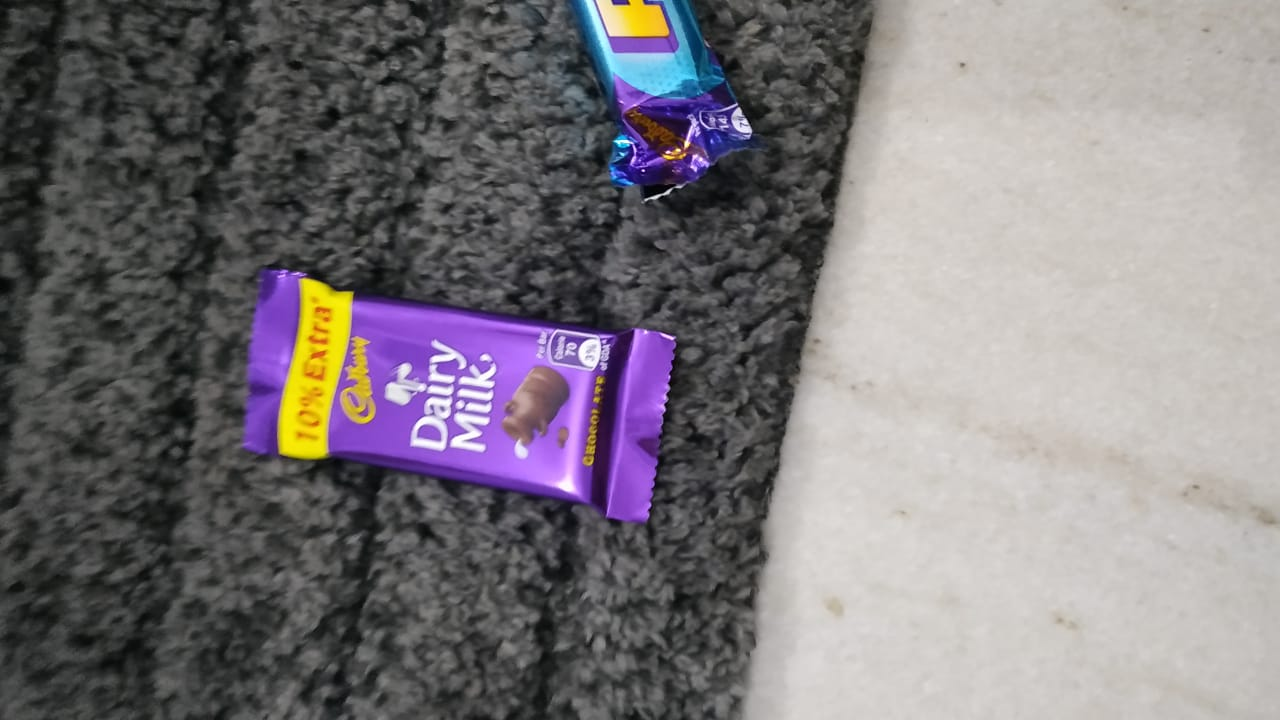dairy milk: (236, 258, 680, 527)
